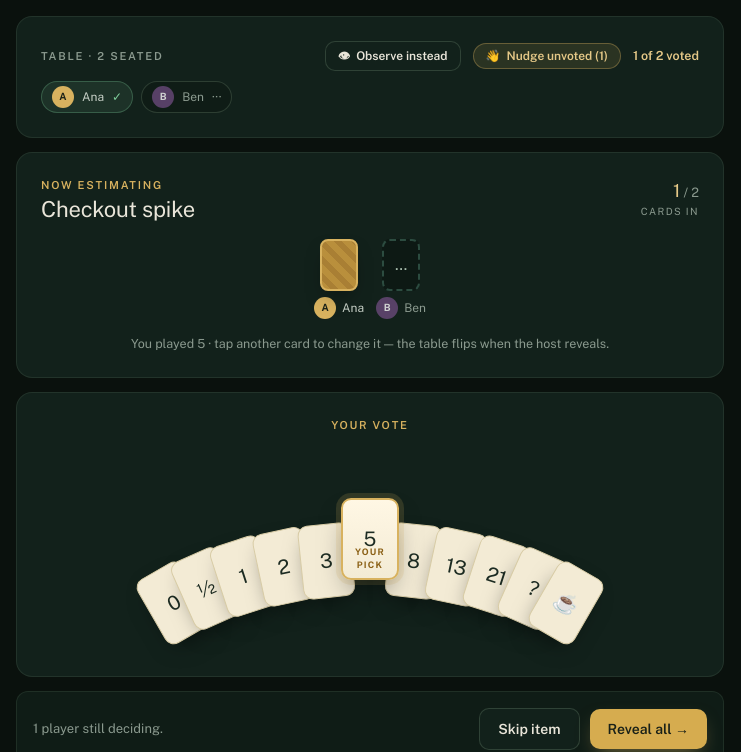
VotingStage — nudging the people who have not voted › sends the nudge and confirms who it went to
Click the button "👋 Nudge unvoted (1)". click: (547, 56)
box: left=473, top=43, right=621, bottom=69
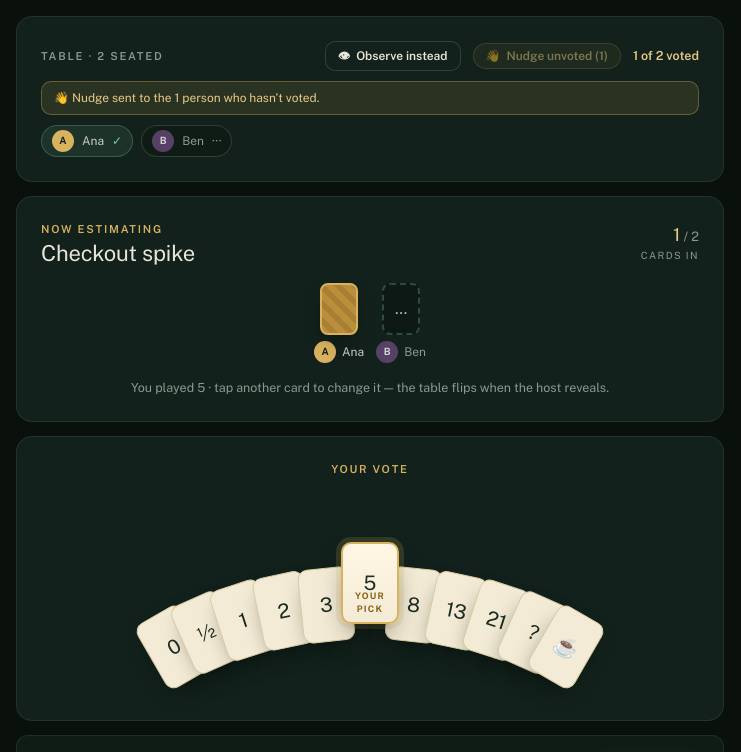
Check: the message shows "Nudge sent to the 1 person", box left=41, top=81, right=699, bottom=115
